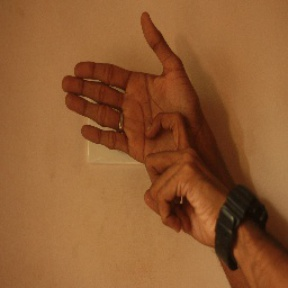R: (64, 10, 212, 220)
